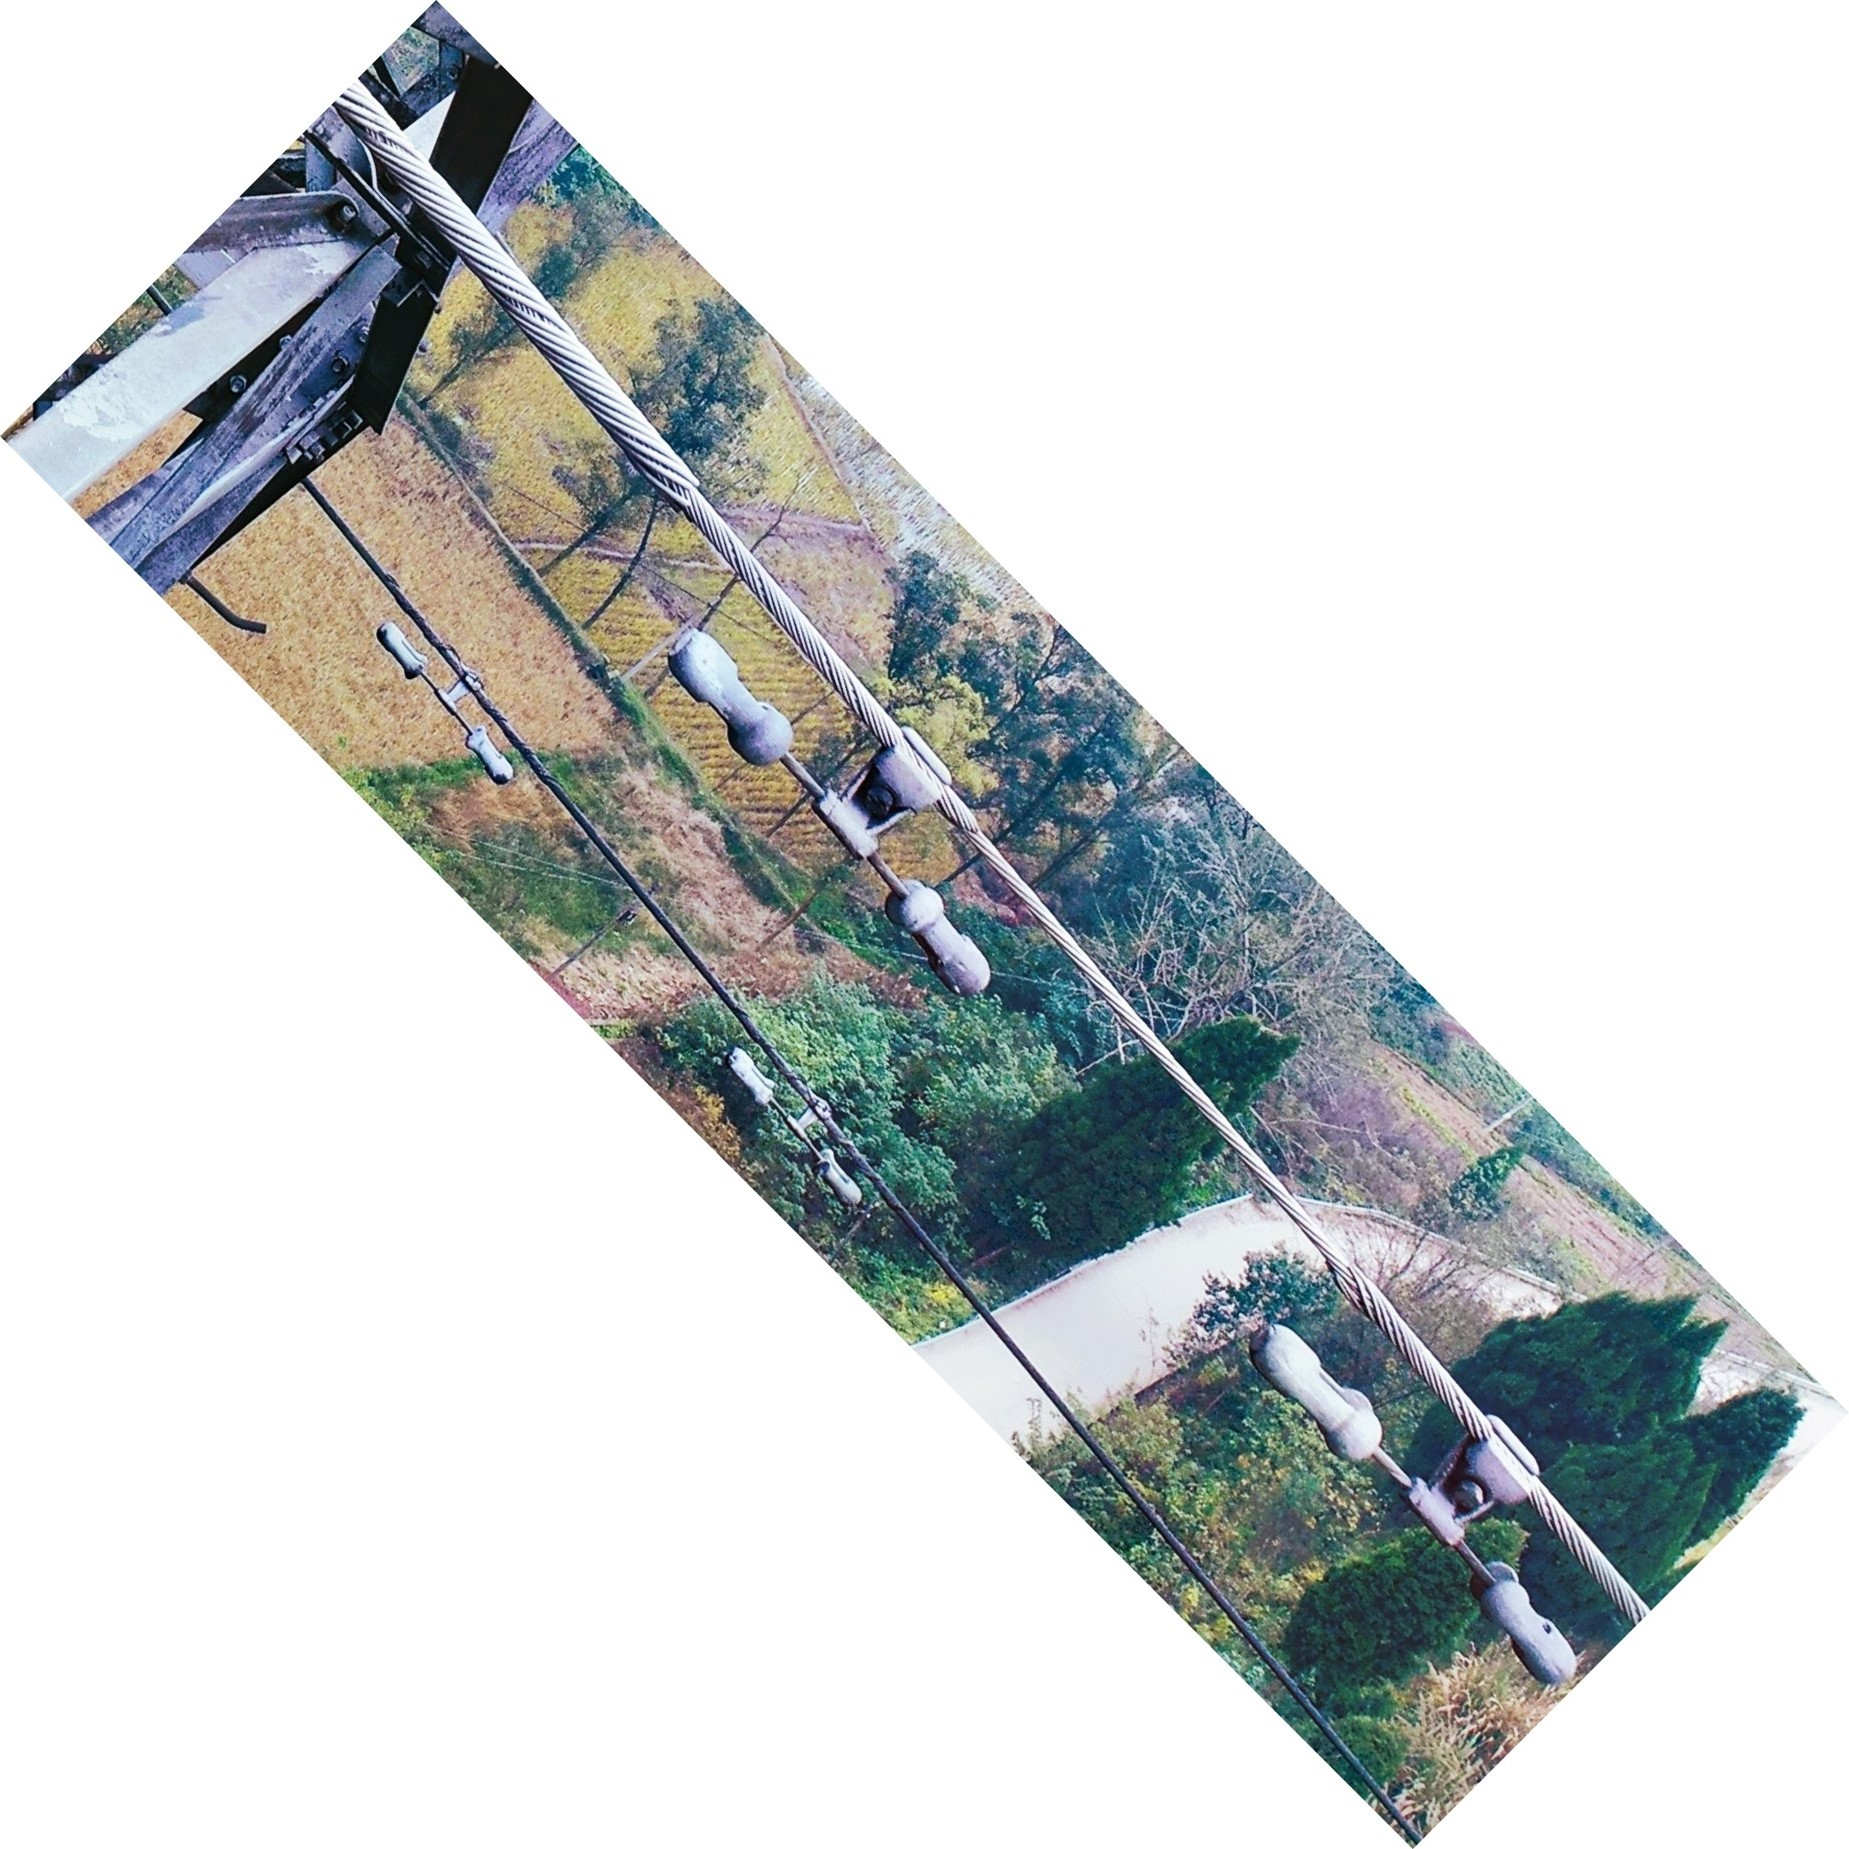Shockproof hammer: (1223, 1265, 1610, 1695), (662, 608, 1026, 1013)
